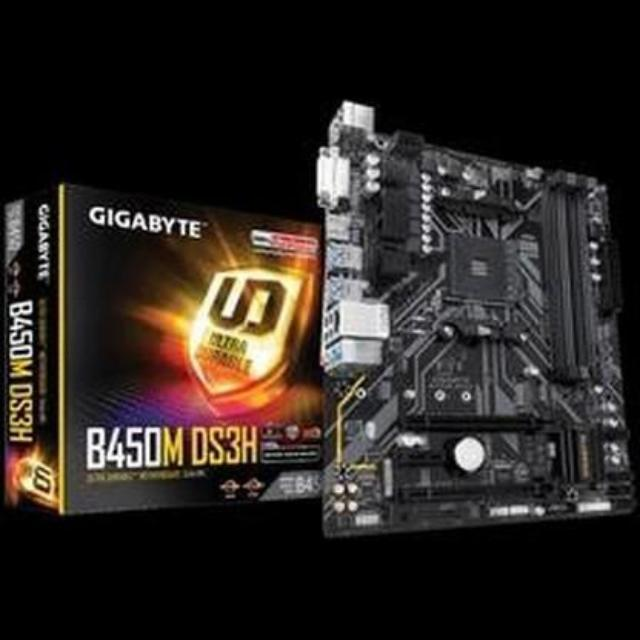Mainboard: (305, 96, 640, 544)
